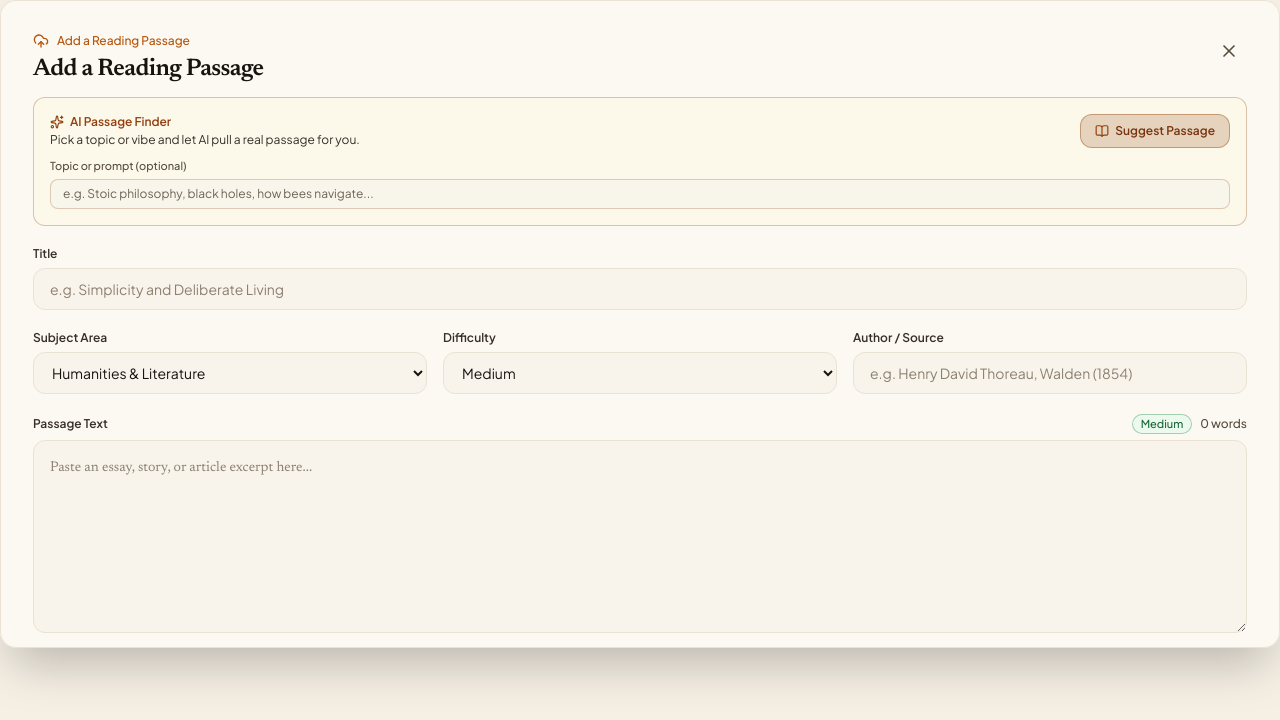
Test case: View Components › CorpusIngestion › shows non-generative AI curator when connected and populates extracted sections
The image size is (1280, 720).
Type "honeybee waggle dance navigation" into the field labelled "Topic or prompt (optional)" at (640, 194), box [50,178,1230,208]
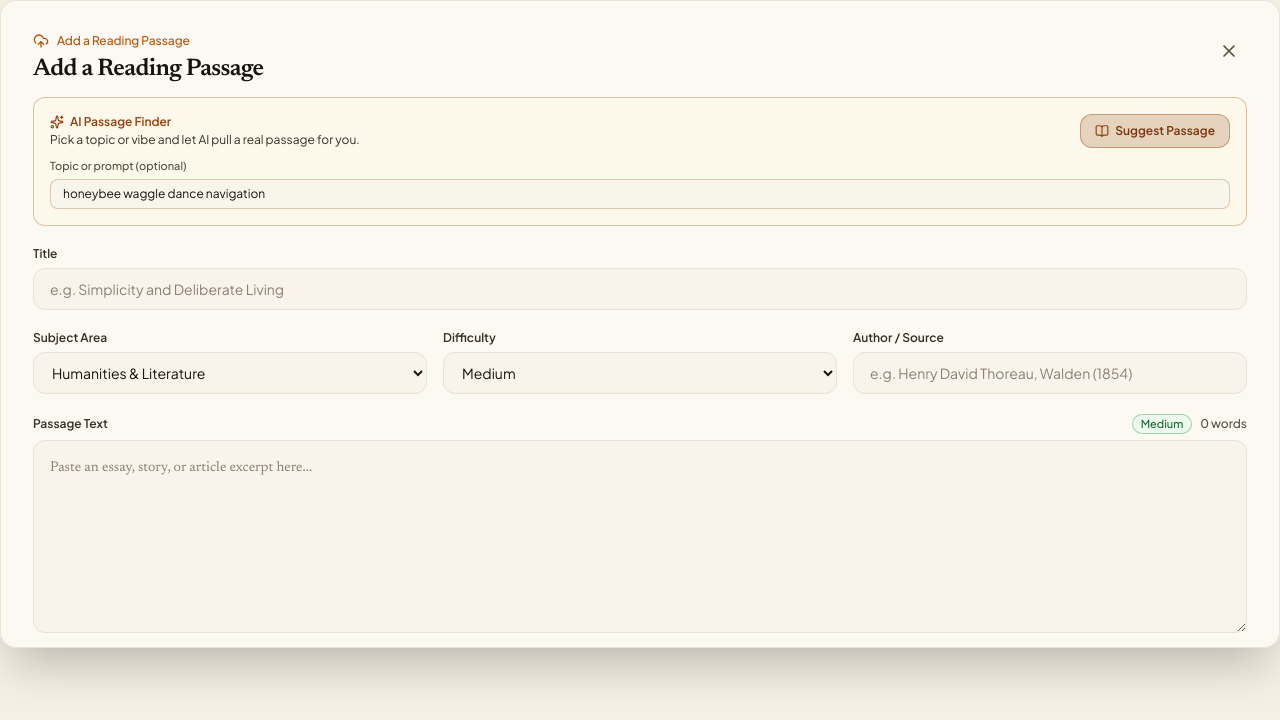
Click the button "Suggest Passage" at (1155, 131), box [1080,114,1230,148]
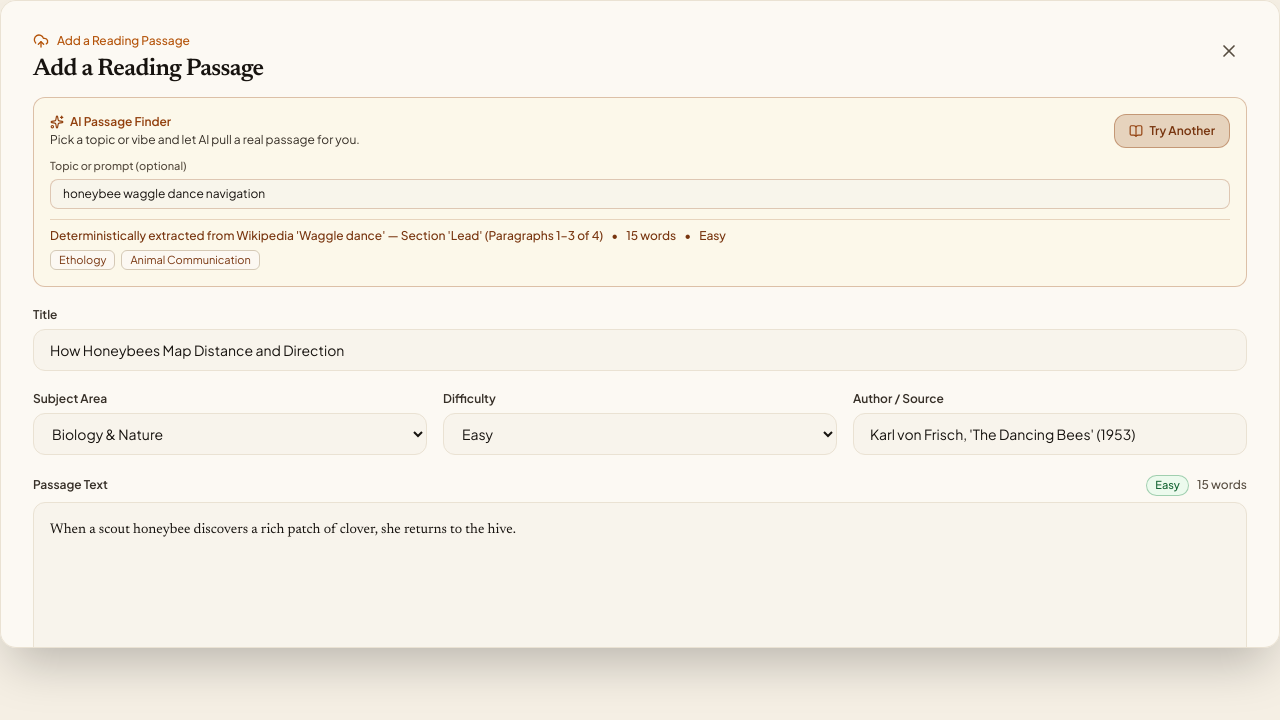
Expected: the field showing "How Honeybees Map Distance and Direction" is shown, [33,329,1247,371]
Expected: the text "Deterministically extracted from Wikipedia" is shown, [50,228,603,242]
Expected: the text "Ethology" is shown, [50,250,115,270]
